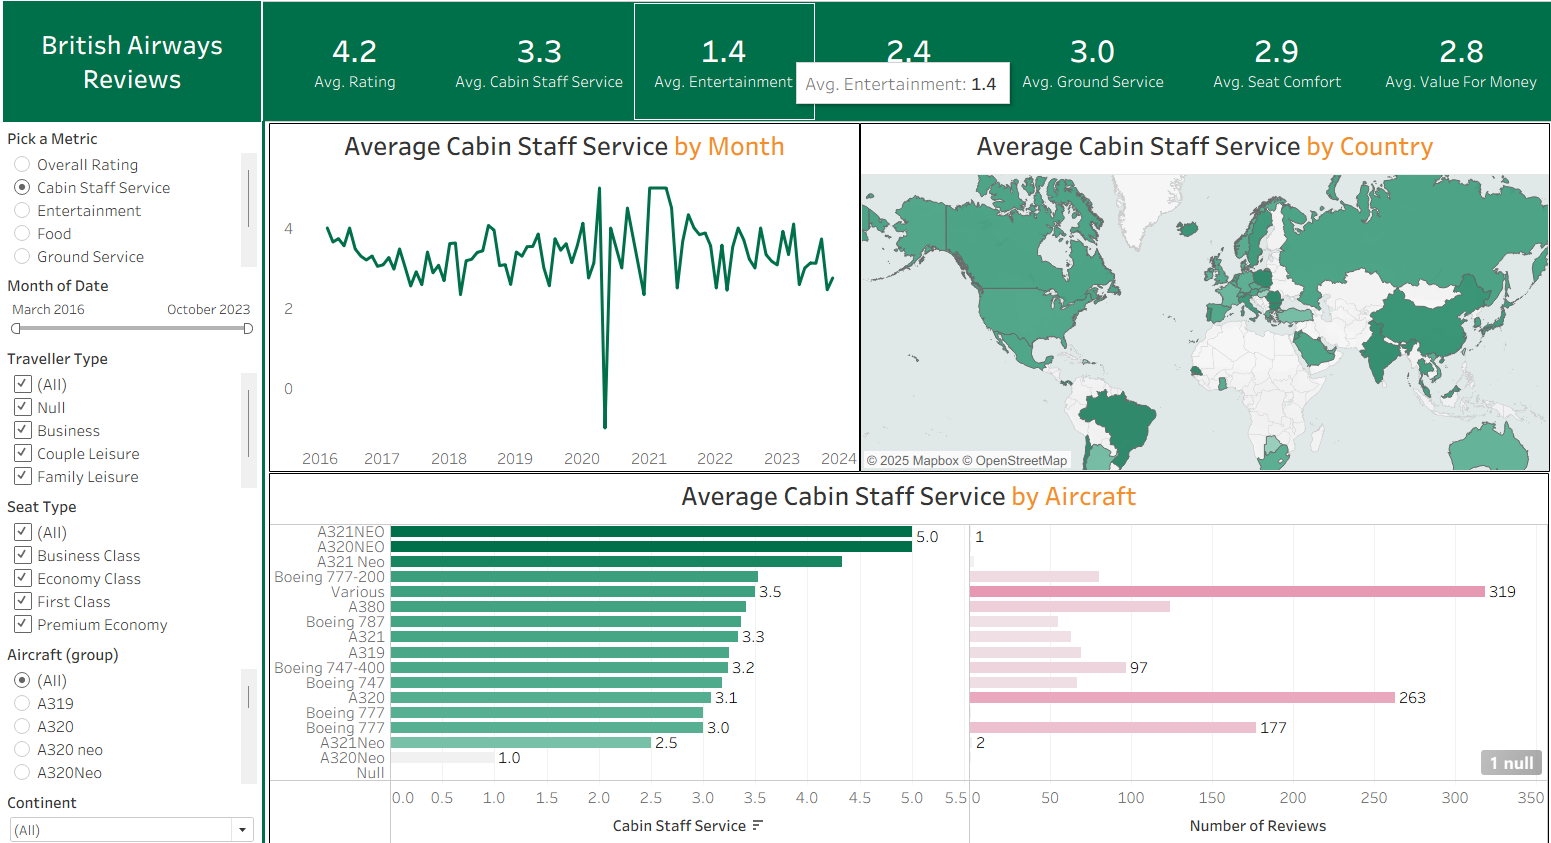

Layout of this report page (visuals, bound fields, positions):
{"tool":"tableau","page":{"name":"Dashboard","canvas":[1550,850],"ordinal":0},"visuals":[{"type":"text","box":[0,0,258.3,121.4]},{"type":"worksheet","title":"Summery","mark":"Automatic","box":[259.6,0,1291.7,121.4]},{"type":"blank","box":[259.5,120.1,3.4,729.9]},{"type":"worksheet","title":"Map","mark":"Automatic","box":[857,122,690,349]},{"type":"worksheet","title":"MonthLineChart","mark":"Automatic","rows":["Calculation_197595488758607873"],"cols":["date"],"box":[266.4,122.4,591.3,349.1]},{"type":"parameter","param":"[Parameters].[Parameter 1]","box":[0,122.6,258.3,147.7]},{"type":"filter","title":"Map","param":"[federated.015kto90wyg11n13137x213z93lk].[tmn:date:qk]","box":[0,270.4,258.3,73]},{"type":"filter","title":"Map","param":"[federated.015kto90wyg11n13137x213z93lk].[none:traveller_type:nk]","box":[0,343.4,258.3,147.7]},{"type":"worksheet","title":"BarByAircraft","mark":"Automatic","cols":["Calculation_197595488758607873","ba_reviews.csv_4126CF8CF2F64013BE7EF9F52B90E8D2"],"box":[266,472,1280,372]},{"type":"filter","title":"Map","param":"[federated.015kto90wyg11n13137x213z93lk].[none:seat_type:nk]","box":[0,491.1,258.3,147.7]},{"type":"filter","title":"Map","param":"[federated.015kto90wyg11n13137x213z93lk].[Aircraft (group)]","box":[0,638.8,258.3,147.7]},{"type":"filter","title":"Map","param":"[federated.015kto90wyg11n13137x213z93lk].[none:Continent:nk]","box":[0,786.6,258.3,61]}]}

Visuals, with their boxes in screenshot pixels (x1, y1, x2, y2), scaled from the page's 1550x850 canvas onto the 1551x843 screenshot:
text: {"left": 0, "top": 0, "right": 258, "bottom": 120}
"Summery" worksheet: {"left": 260, "top": 0, "right": 1550, "bottom": 120}
blank: {"left": 260, "top": 119, "right": 263, "bottom": 842}
"Map" worksheet: {"left": 858, "top": 121, "right": 1548, "bottom": 467}
"MonthLineChart" worksheet: {"left": 267, "top": 121, "right": 858, "bottom": 468}
parameter: {"left": 0, "top": 122, "right": 258, "bottom": 268}
"Map" filter: {"left": 0, "top": 268, "right": 258, "bottom": 341}
"Map" filter: {"left": 0, "top": 341, "right": 258, "bottom": 487}
"BarByAircraft" worksheet: {"left": 266, "top": 468, "right": 1547, "bottom": 837}
"Map" filter: {"left": 0, "top": 487, "right": 258, "bottom": 634}
"Map" filter: {"left": 0, "top": 634, "right": 258, "bottom": 780}
"Map" filter: {"left": 0, "top": 780, "right": 258, "bottom": 841}
